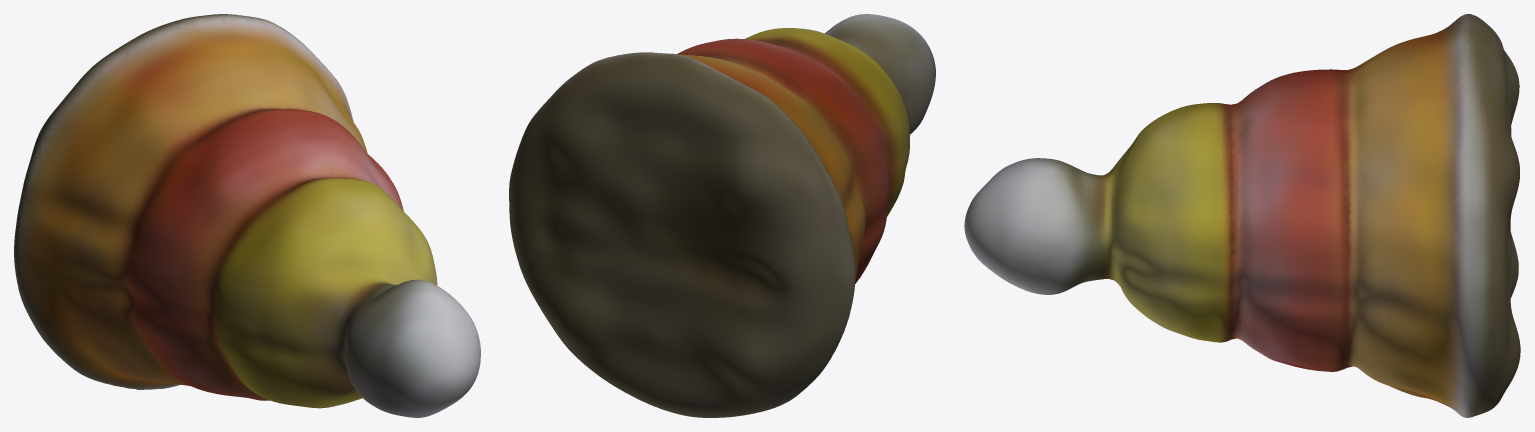
File: chicken.glb
The picture shows the model from 3 angles, left to right: view 1: azimuth 30°, elevation 25°; view 2: azimuth 150°, elevation 25°; view 3: azimuth 270°, elevation 25°; orthographic projection. The views are drawn at different scales.
Size of the model in its own units: 0.723 by 0.7261 by 0.9998.
